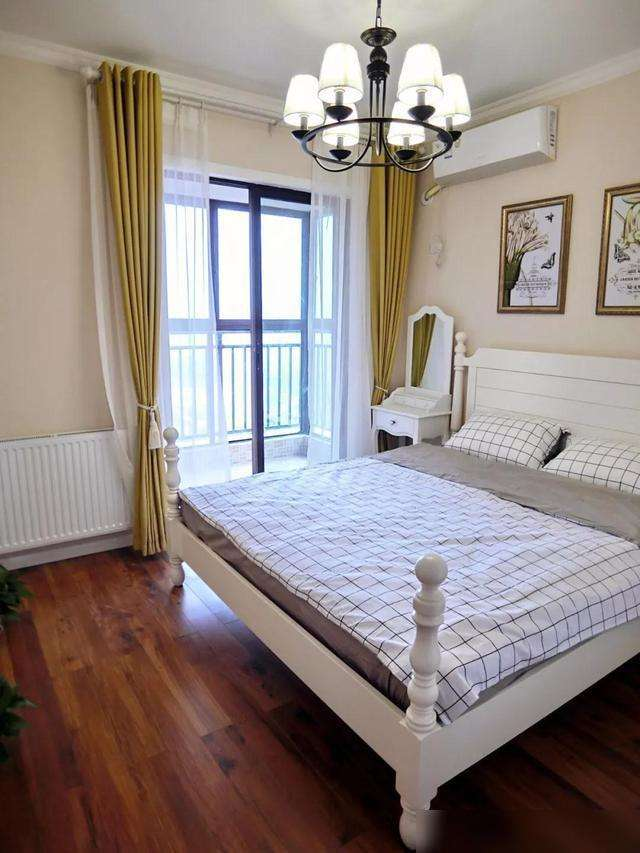床: (178, 442, 640, 775)
枕头: (438, 413, 640, 487)
灯: (271, 10, 463, 176)
